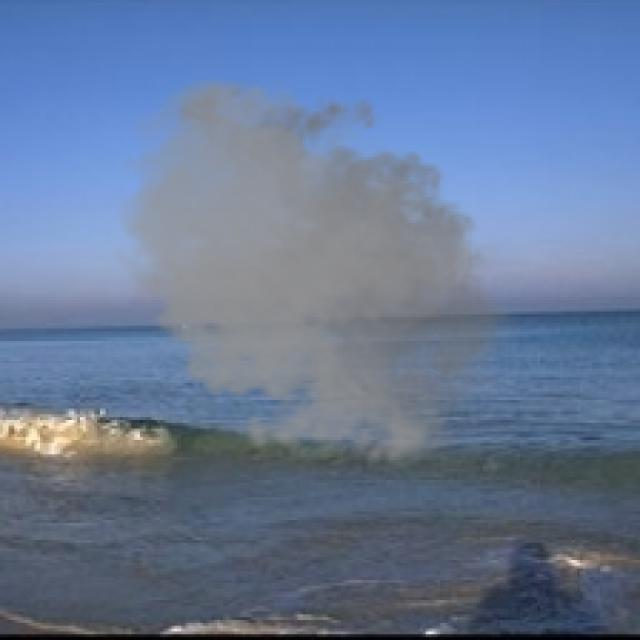Smoke: (106, 72, 532, 477)
